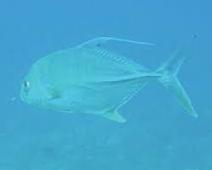Carangidae -Jacks-: (14, 30, 203, 127)
